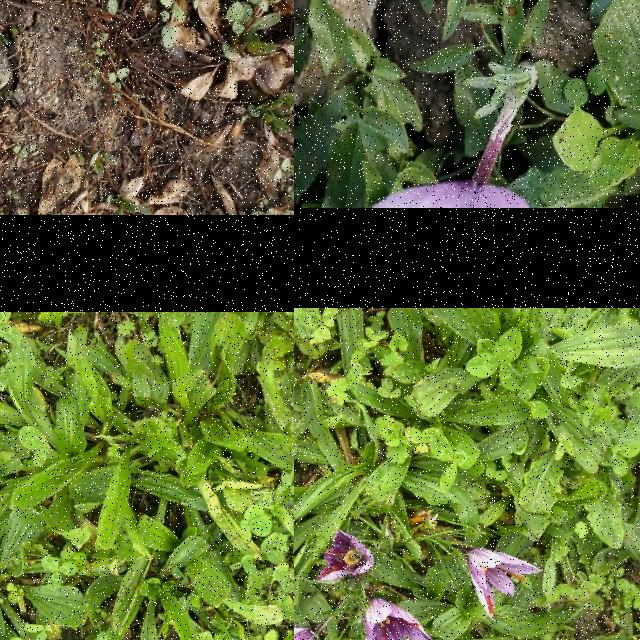flower: (468, 548, 542, 620), (318, 530, 376, 584), (364, 598, 433, 640)
